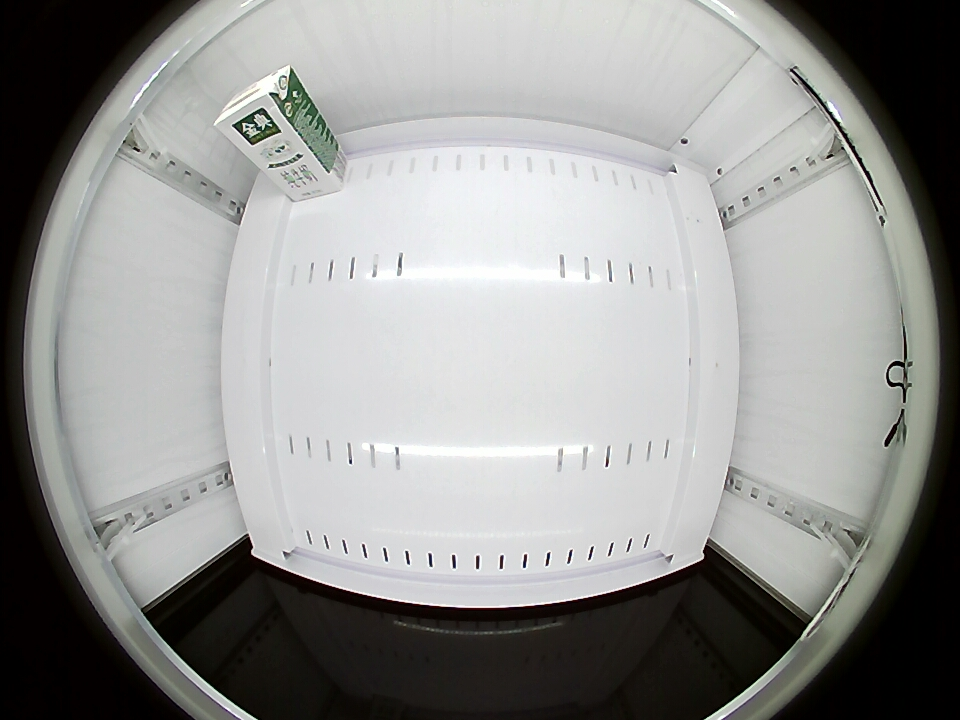jindian: (213, 63, 307, 152)
